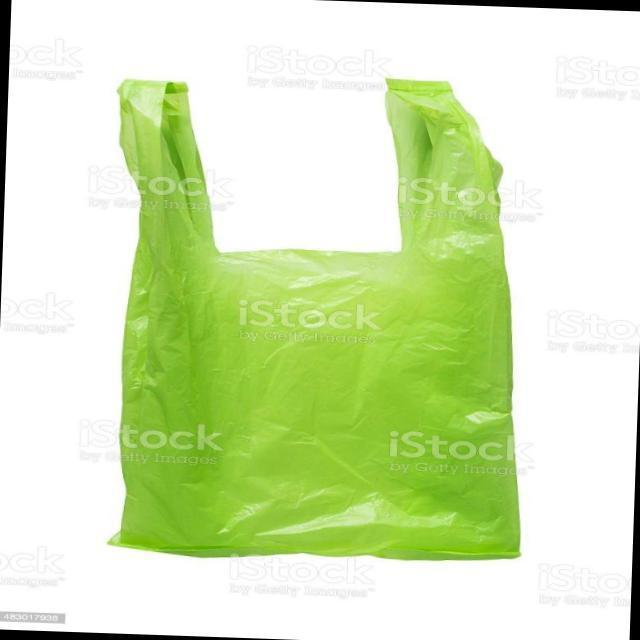Plastic_Bag: (78, 67, 554, 566)
